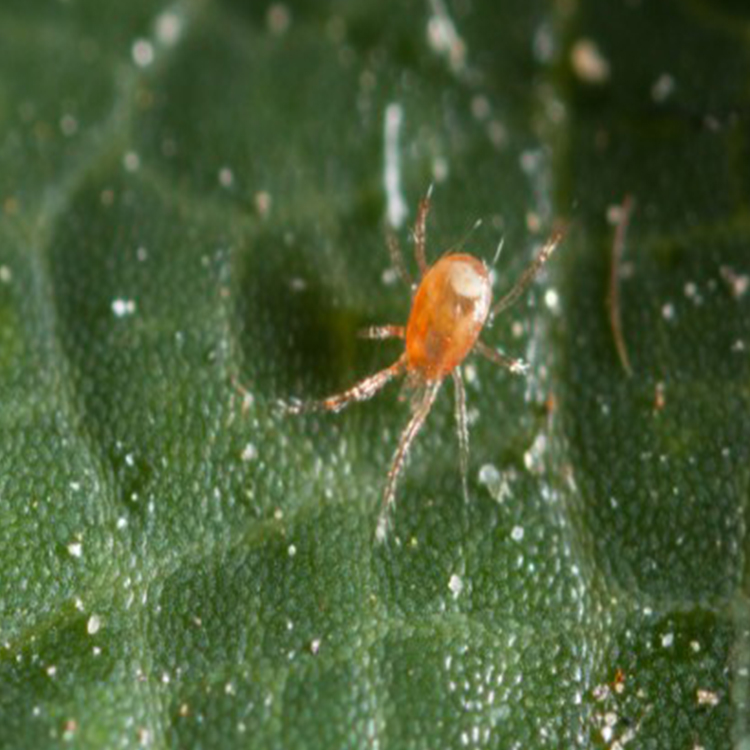Mites: (351, 164, 553, 513)
